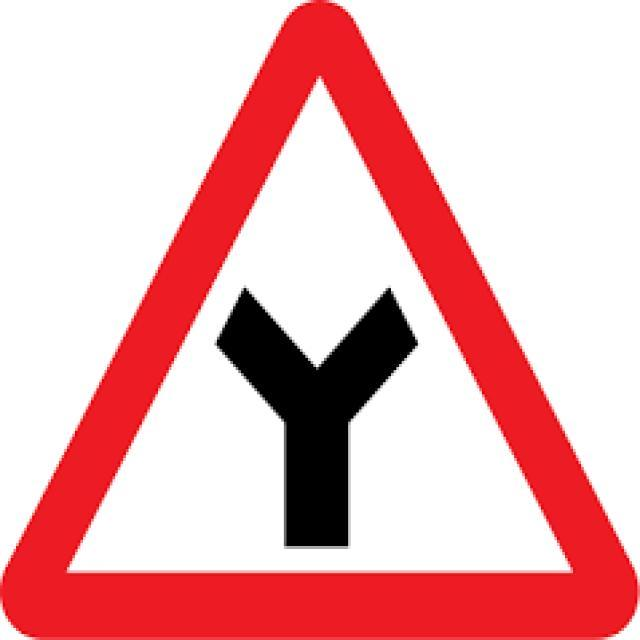y intersection: (16, 15, 612, 622)
